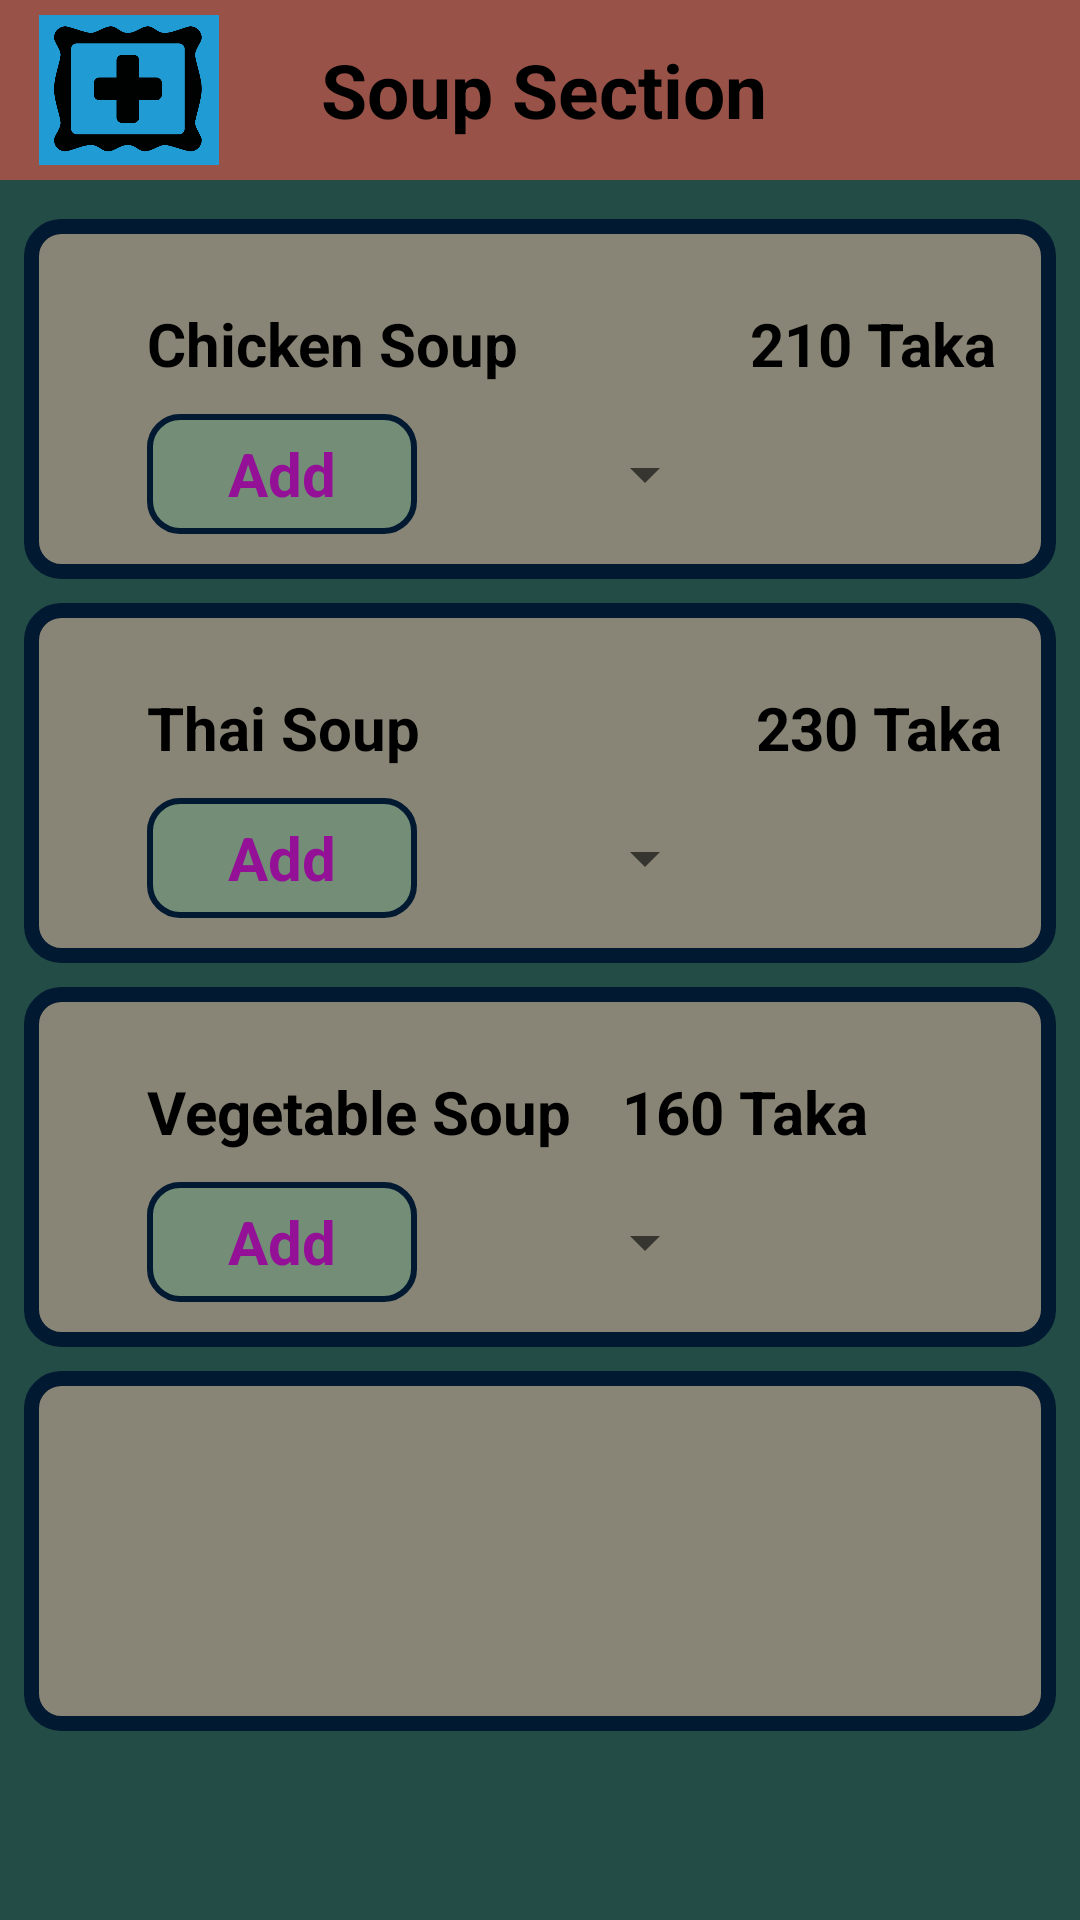

Screen size 1080x1920. Icon name, then its center in pixels as point (x, y):
add: point (129, 90)
